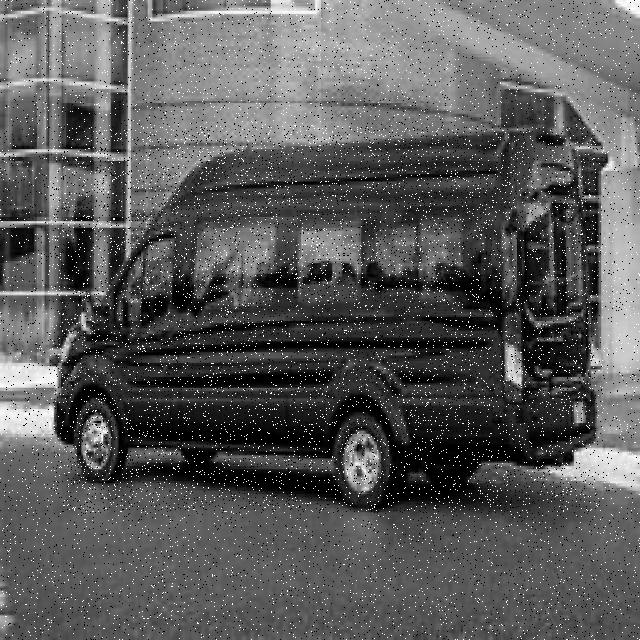Van: (53, 126, 599, 512)
